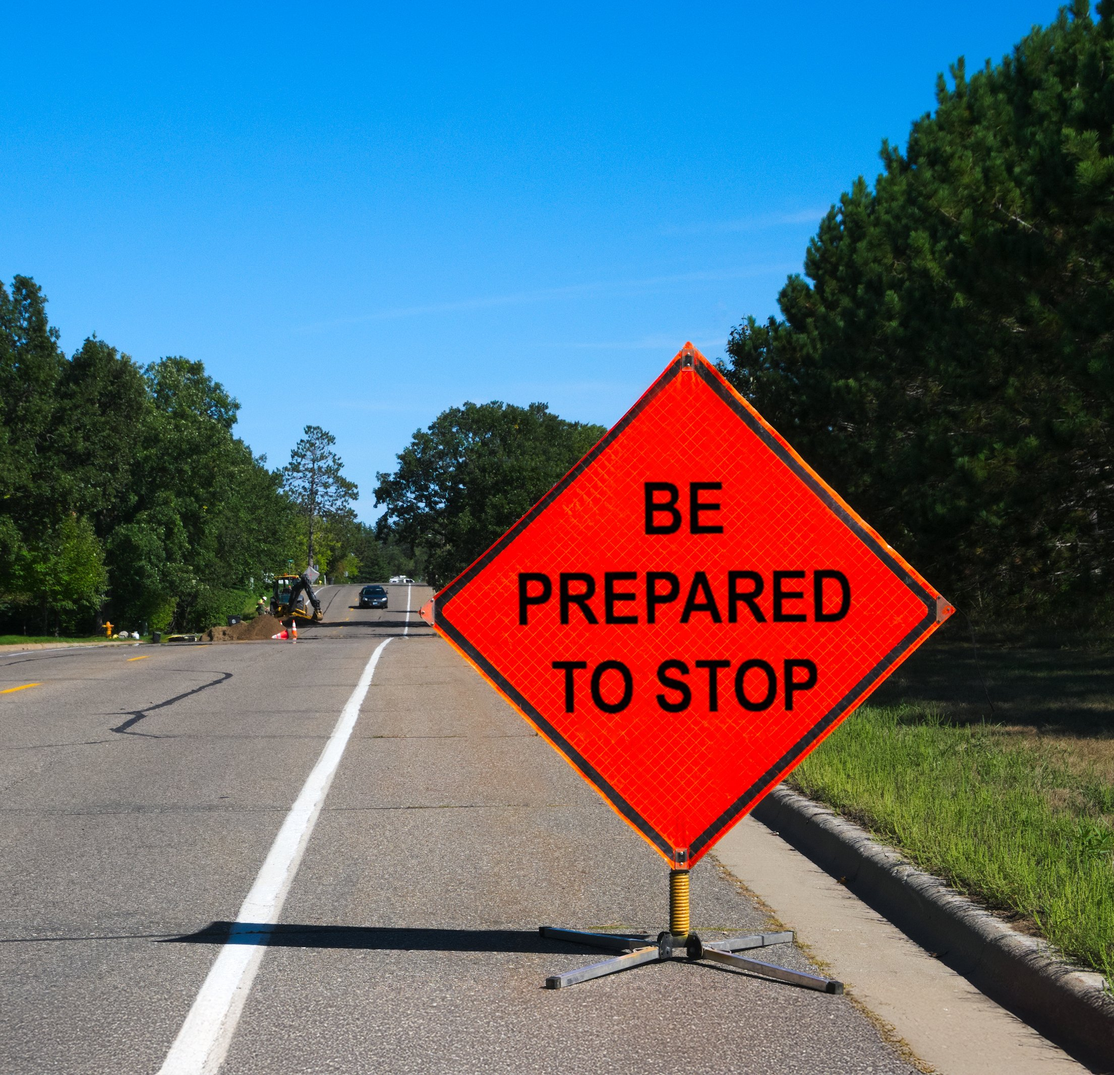Be Prepared to Stop: (446, 617, 795, 954)
